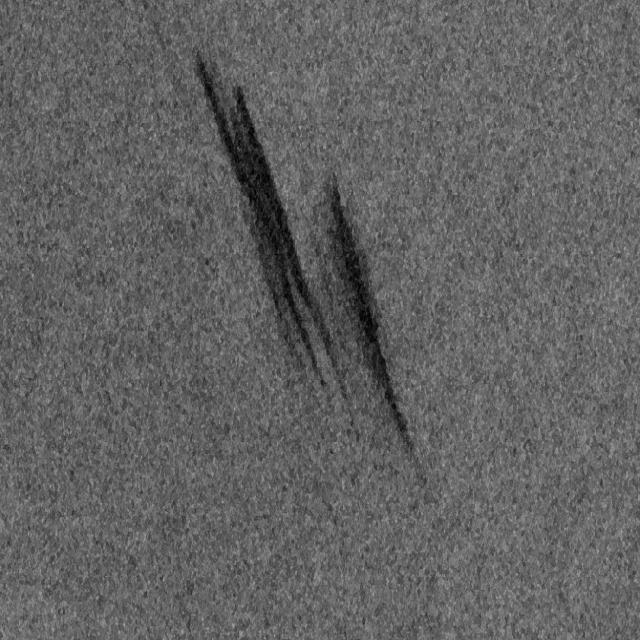look-alike: (188, 48, 350, 414), (313, 163, 434, 466)
